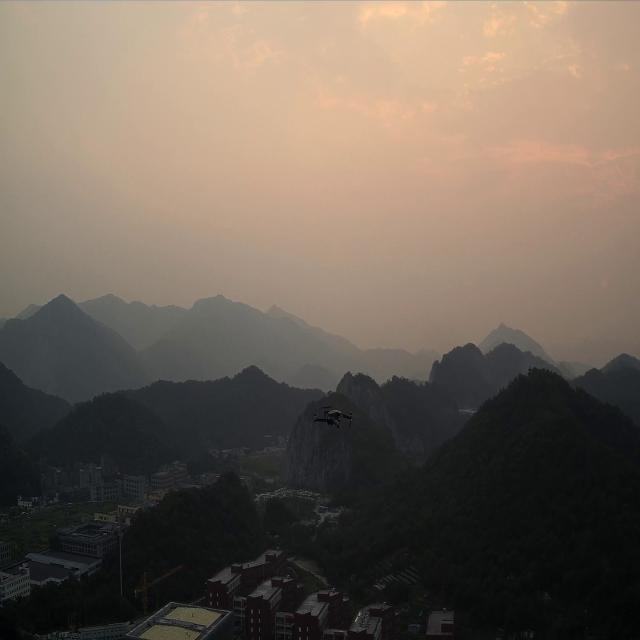UAV: (312, 404, 356, 431)
